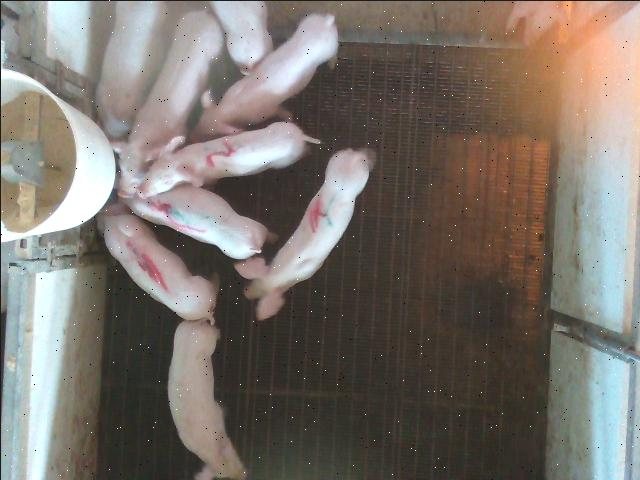pig-1: (99, 214, 216, 320)
pig-3: (124, 184, 274, 259)
pig-4: (234, 148, 374, 319)
pig-5: (136, 121, 319, 198)
